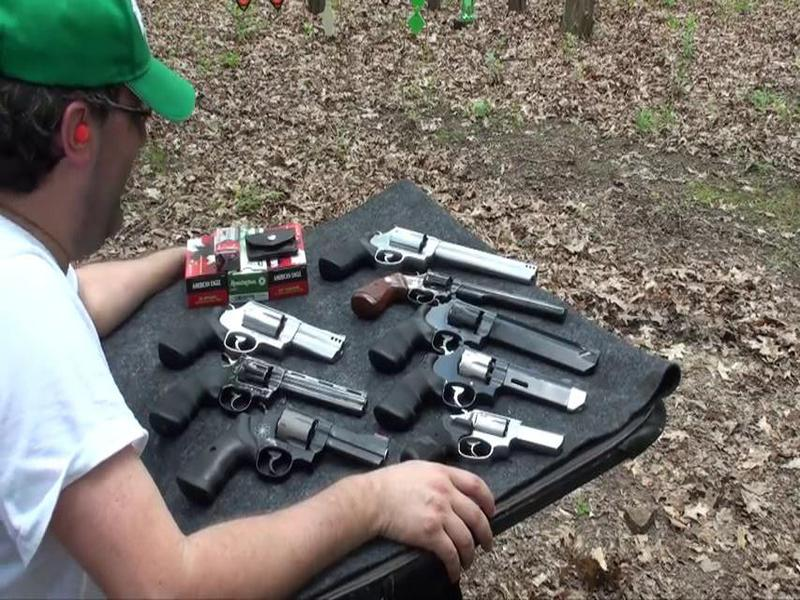Revolver: (350, 253, 574, 338)
